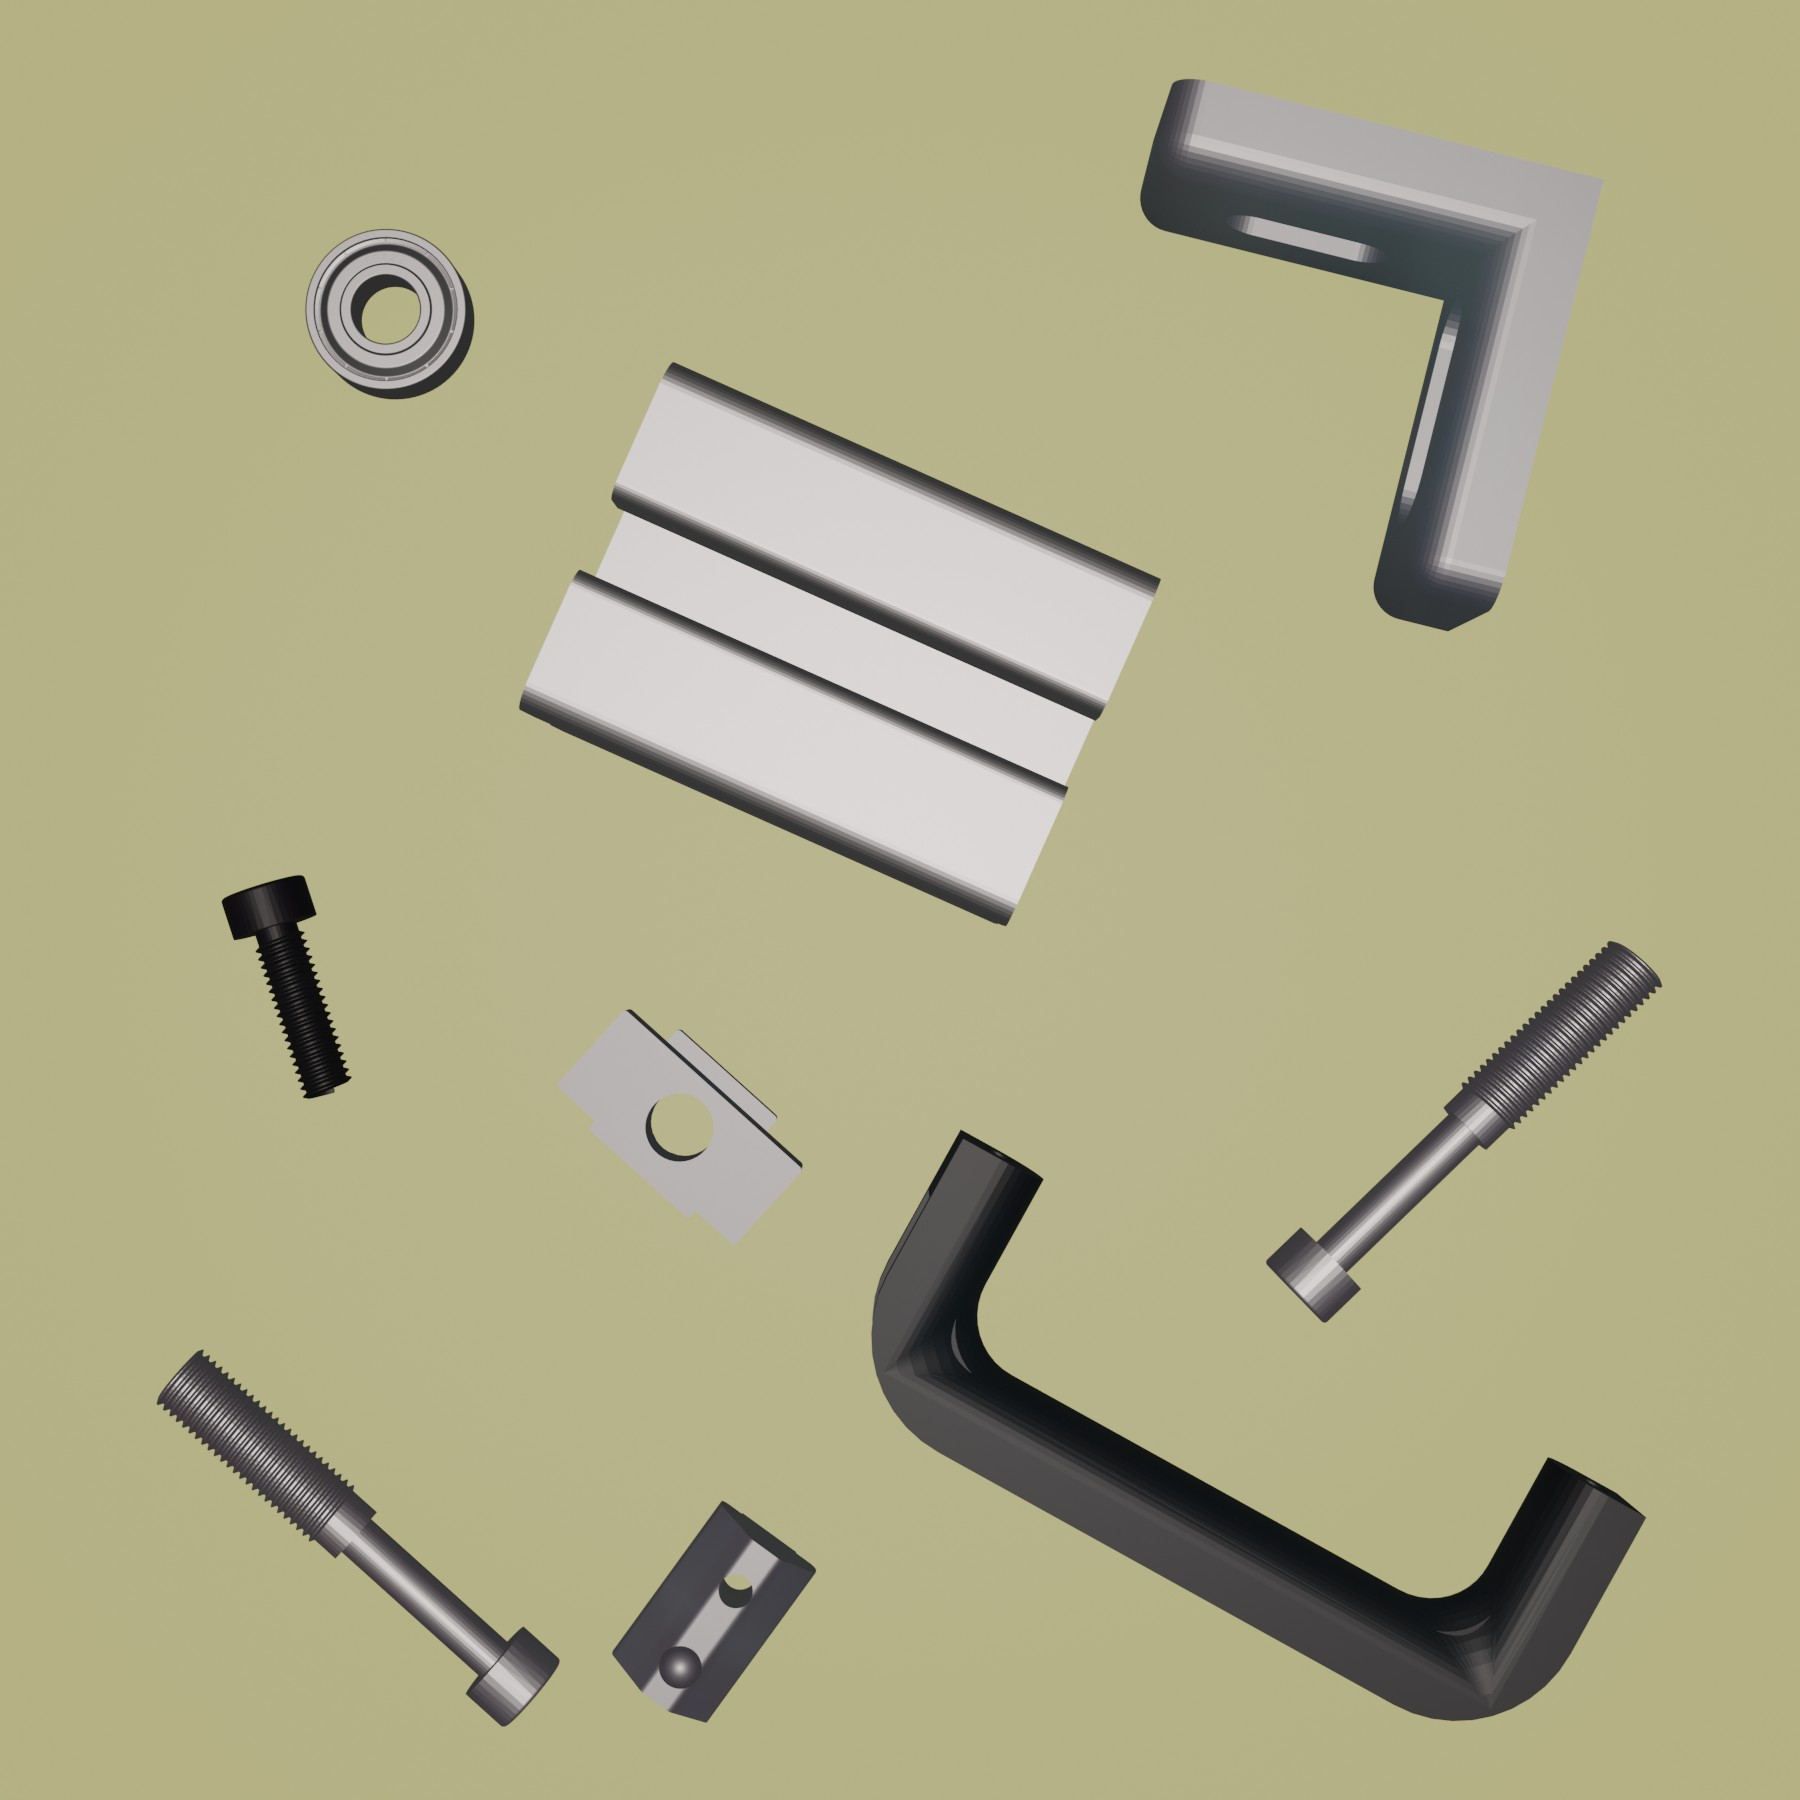Aluminium Extension: (513, 358, 1162, 931)
Ball Bearing: (303, 226, 476, 401)
Multiwinkel: (1136, 74, 1604, 635)
Pull Handle: (867, 1126, 1647, 1723)
Shoulder Socket Head Cap Screw: (152, 1347, 562, 1732), (1263, 936, 1666, 1324)
Socket Head Cap Screw: (219, 872, 354, 1101)
T Nut Square: (542, 1004, 806, 1248)
T Spring Nut: (608, 1497, 819, 1727)
